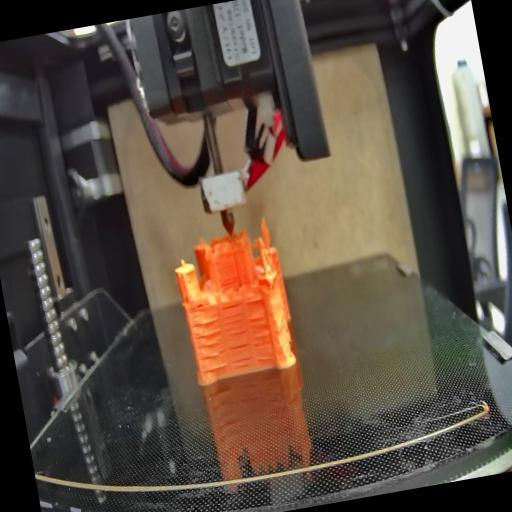cracks: (192, 316, 228, 372), (247, 312, 277, 363), (217, 302, 247, 338), (227, 337, 255, 369), (194, 298, 208, 310), (246, 297, 264, 306)
